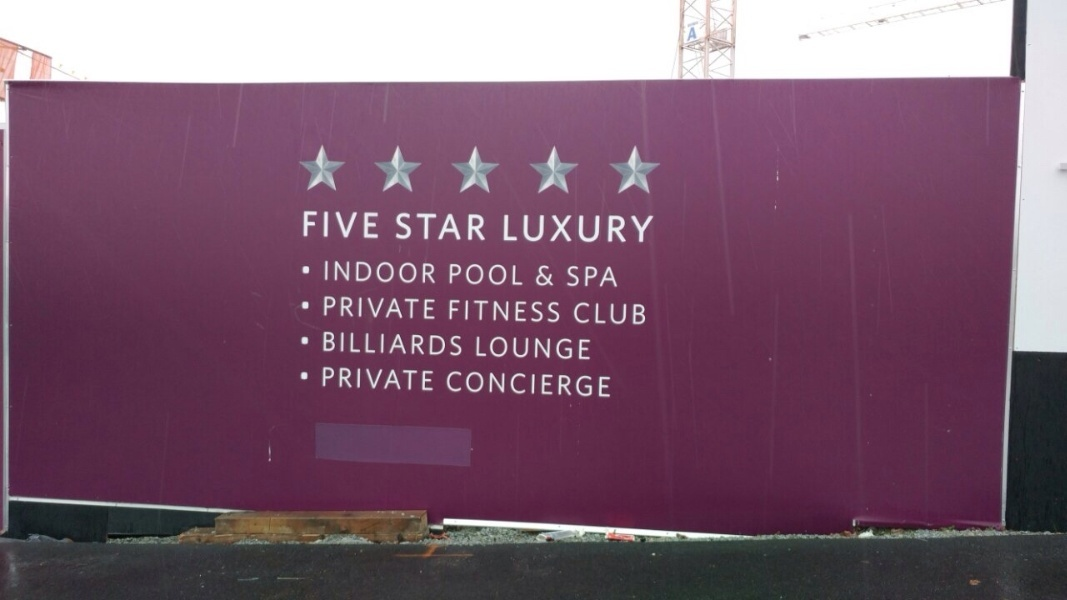text: (401, 211, 416, 242), (417, 211, 432, 242), (433, 211, 448, 242), (449, 211, 464, 242), (465, 211, 480, 242), (305, 211, 320, 240), (321, 211, 336, 240), (337, 211, 352, 240), (353, 211, 368, 240), (513, 214, 528, 243), (529, 214, 544, 243), (545, 214, 560, 243), (561, 214, 576, 243), (577, 214, 592, 243), (593, 214, 608, 243), (609, 214, 624, 243), (625, 214, 640, 243), (641, 214, 655, 243), (321, 365, 336, 391), (337, 365, 352, 391), (353, 365, 368, 391), (369, 365, 384, 391), (385, 365, 400, 391), (401, 365, 416, 391), (417, 365, 432, 391), (449, 371, 464, 397), (465, 371, 480, 397), (481, 371, 496, 397), (497, 371, 512, 397), (513, 371, 528, 397), (529, 371, 544, 397), (545, 371, 560, 397), (561, 371, 576, 397), (577, 371, 592, 397), (593, 371, 608, 397), (337, 259, 352, 284), (353, 259, 368, 284), (369, 259, 384, 284), (385, 259, 400, 284), (401, 259, 416, 284), (417, 259, 432, 284), (337, 296, 352, 321), (353, 296, 368, 321), (369, 296, 384, 321), (385, 296, 400, 321), (401, 296, 416, 321), (417, 296, 432, 321), (449, 299, 464, 324), (465, 299, 480, 324), (481, 299, 496, 324), (497, 299, 512, 324), (513, 299, 528, 324), (529, 299, 544, 324), (545, 299, 560, 324), (577, 301, 592, 326), (593, 301, 608, 326), (609, 301, 624, 326), (625, 301, 640, 326), (337, 331, 352, 356), (353, 331, 368, 356), (369, 331, 384, 356), (385, 331, 400, 356), (401, 331, 416, 356), (417, 331, 432, 356), (433, 331, 448, 356), (481, 336, 496, 361), (497, 336, 512, 361), (513, 336, 528, 361), (529, 336, 544, 361), (545, 336, 560, 361), (561, 336, 576, 361), (322, 331, 336, 356), (449, 331, 463, 356), (577, 336, 591, 361), (369, 211, 381, 240), (449, 263, 464, 286), (465, 263, 480, 286), (481, 263, 496, 286), (497, 263, 512, 286), (577, 265, 592, 288), (593, 265, 608, 288), (323, 259, 336, 284), (323, 296, 336, 321), (502, 214, 512, 243), (513, 263, 525, 286), (545, 265, 556, 287), (566, 265, 576, 288), (609, 265, 619, 288), (689, 26, 700, 44), (535, 265, 544, 287), (481, 211, 487, 242), (395, 211, 400, 242), (641, 301, 647, 326), (476, 336, 480, 361), (433, 365, 436, 391), (609, 371, 612, 397), (433, 259, 436, 284), (433, 296, 436, 321), (446, 371, 448, 397), (574, 301, 576, 326), (686, 26, 688, 44), (303, 211, 304, 240), (561, 299, 562, 324)
